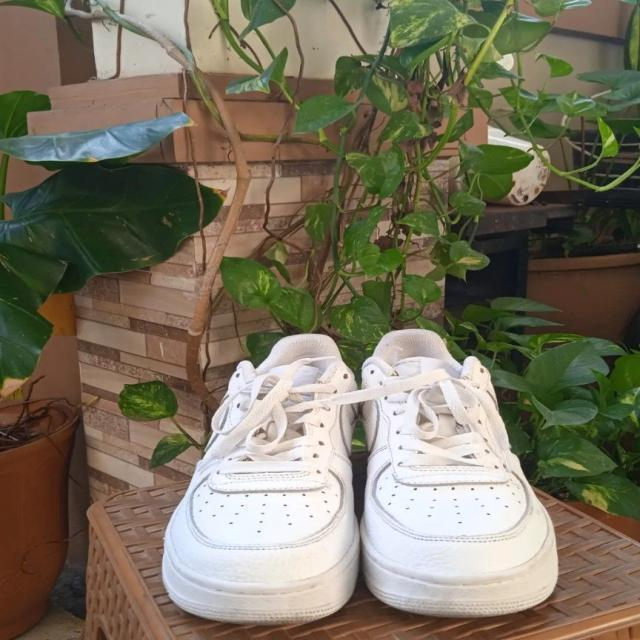nike fake air force: (156, 332, 364, 632), (359, 324, 563, 622)
